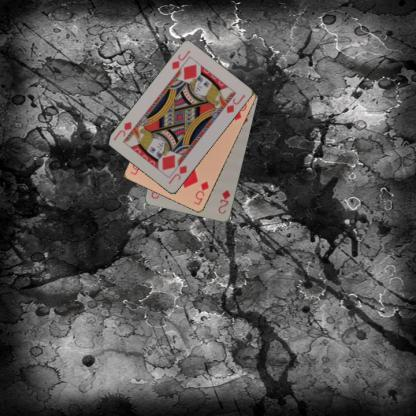2d: (216, 187, 232, 216)
5d: (191, 179, 210, 206)
Jd: (169, 48, 192, 71), (166, 163, 188, 185)
